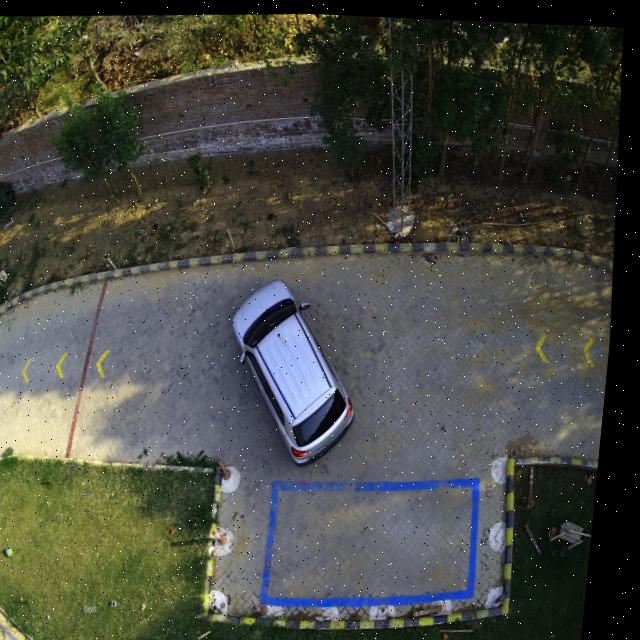car: (237, 275, 363, 465)
